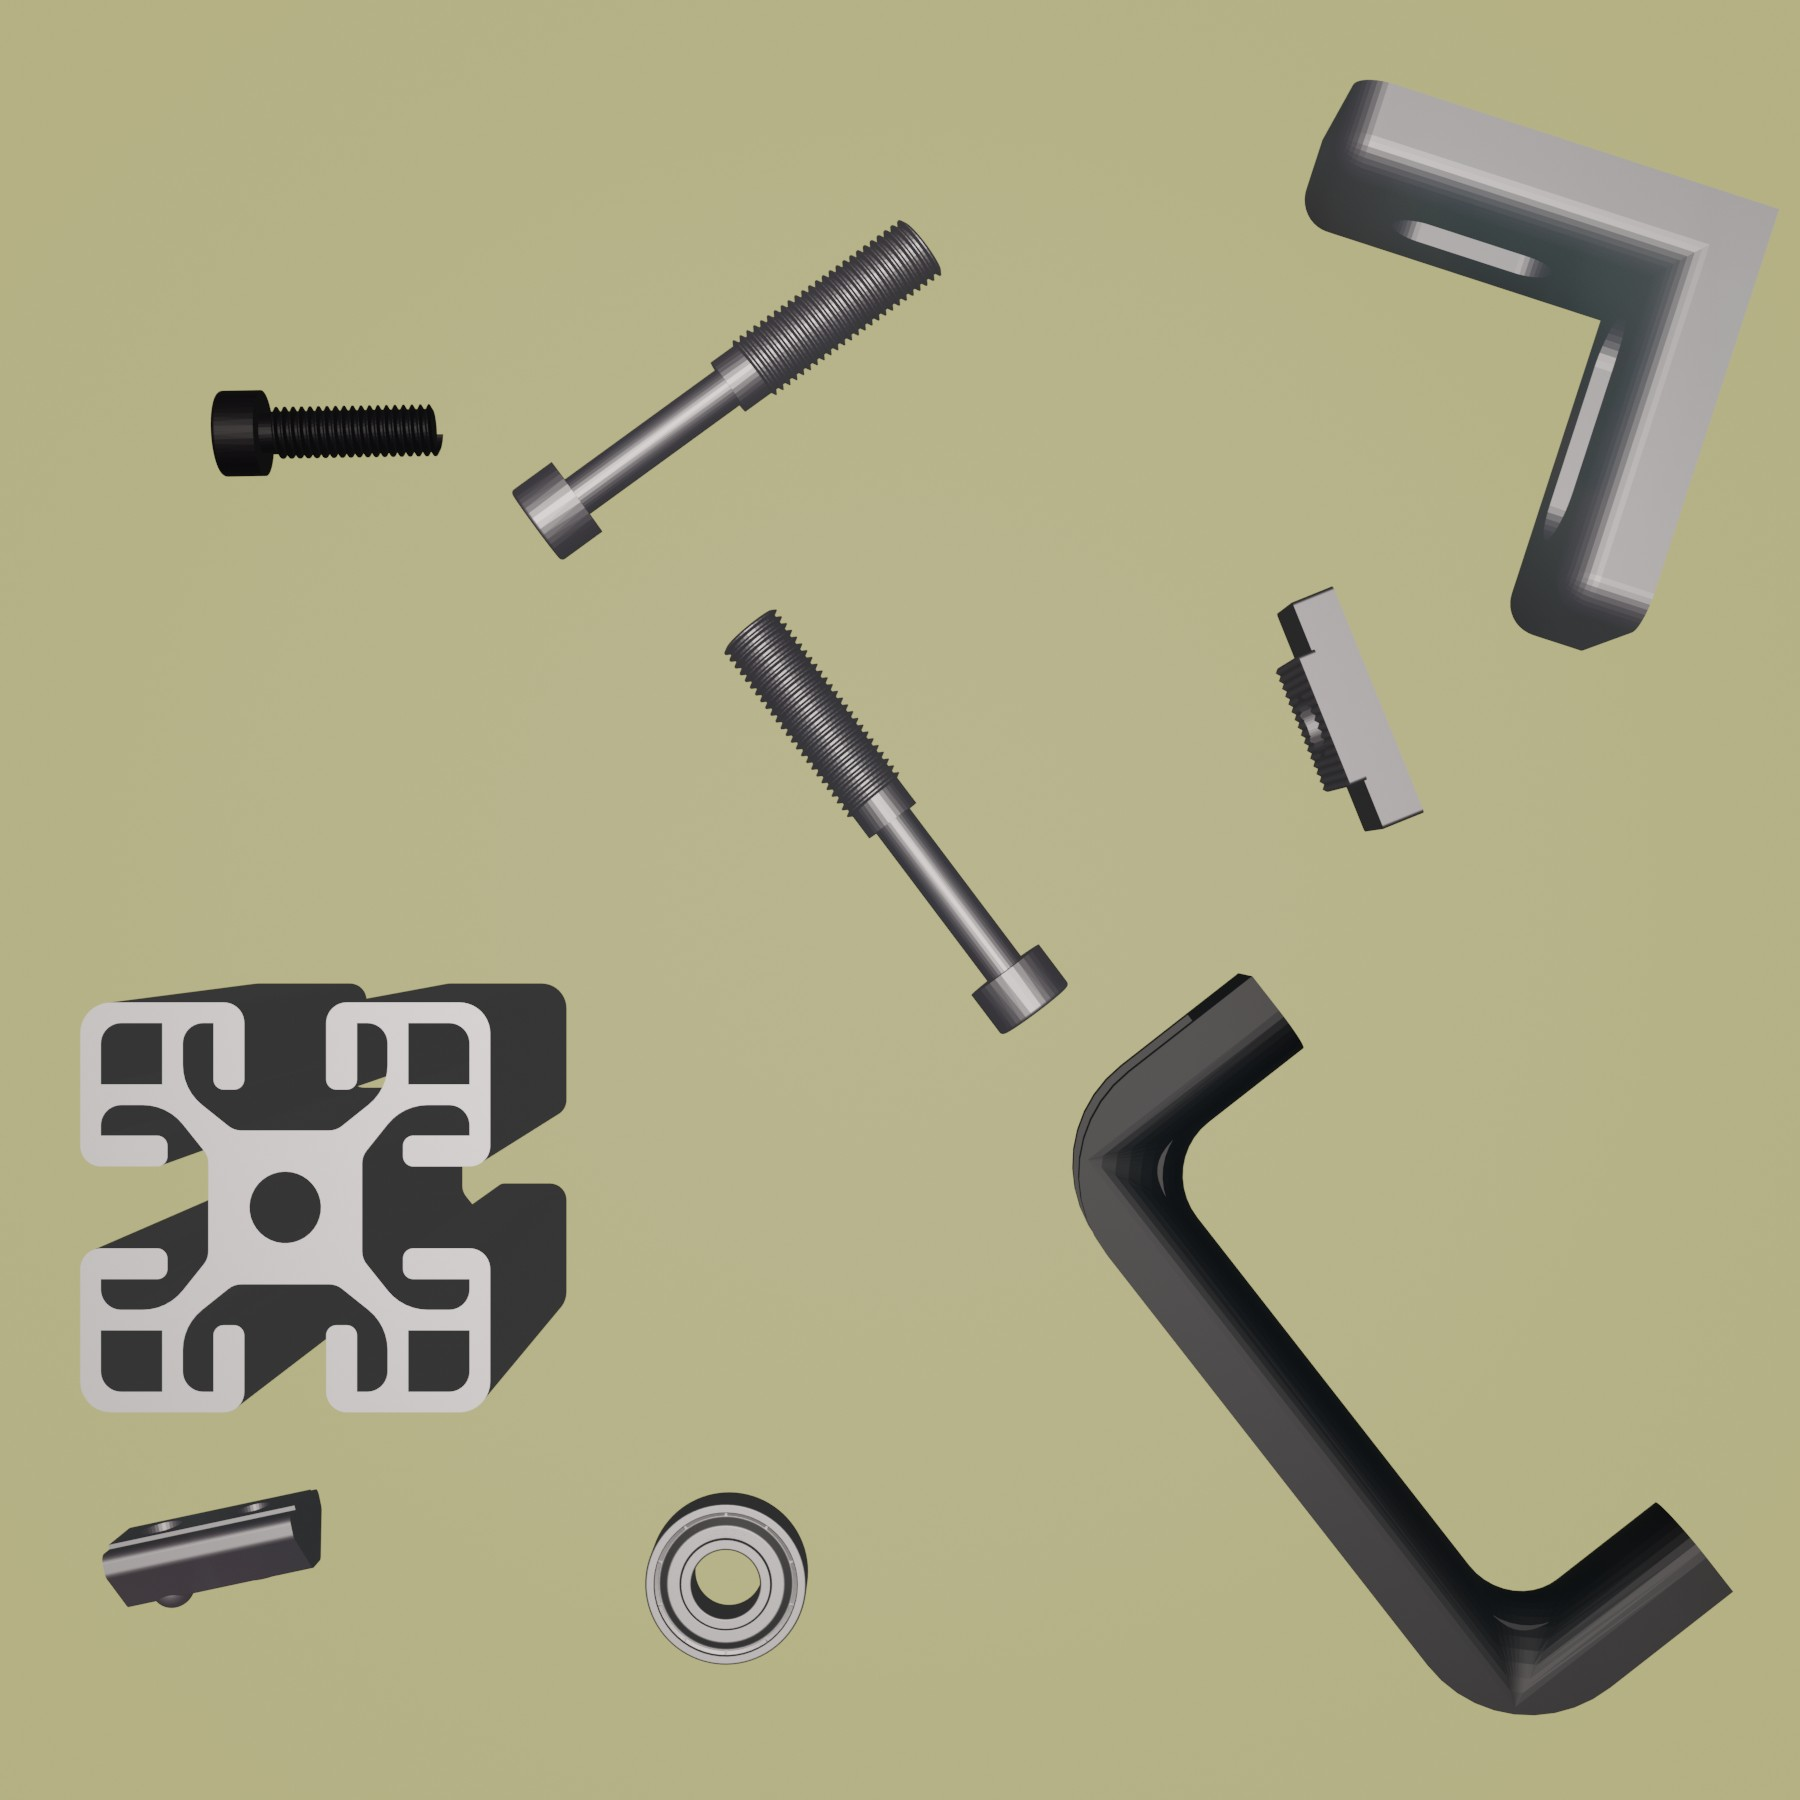Aluminium Extension: (74, 976, 574, 1419)
Ball Bearing: (641, 1492, 811, 1668)
Multiwinkel: (1302, 74, 1784, 653)
Pull Handle: (1070, 969, 1737, 1716)
Shoulder Socket Head Cap Screw: (720, 603, 1071, 1038), (509, 216, 946, 562)
Socket Head Cap Screw: (208, 386, 447, 481)
T Nut Square: (1273, 580, 1427, 836)
T Spring Nut: (101, 1484, 325, 1614)
